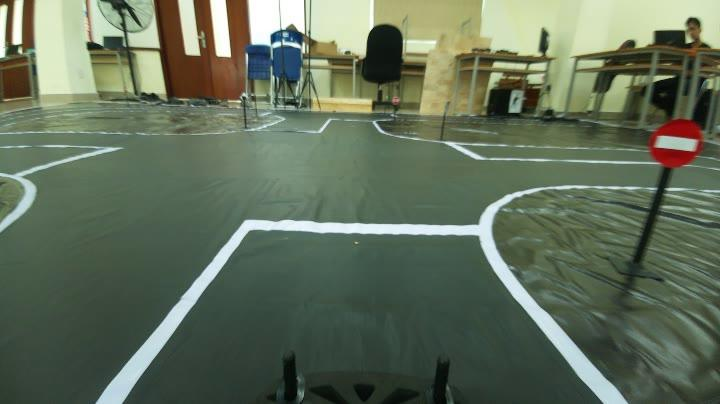no_entry: (646, 112, 704, 173)
